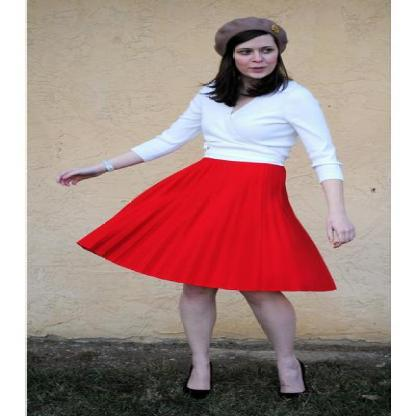hat: (215, 17, 287, 58)
jacket: (137, 82, 342, 181)
shoe: (174, 382, 306, 409)
skirt: (77, 158, 336, 290)
